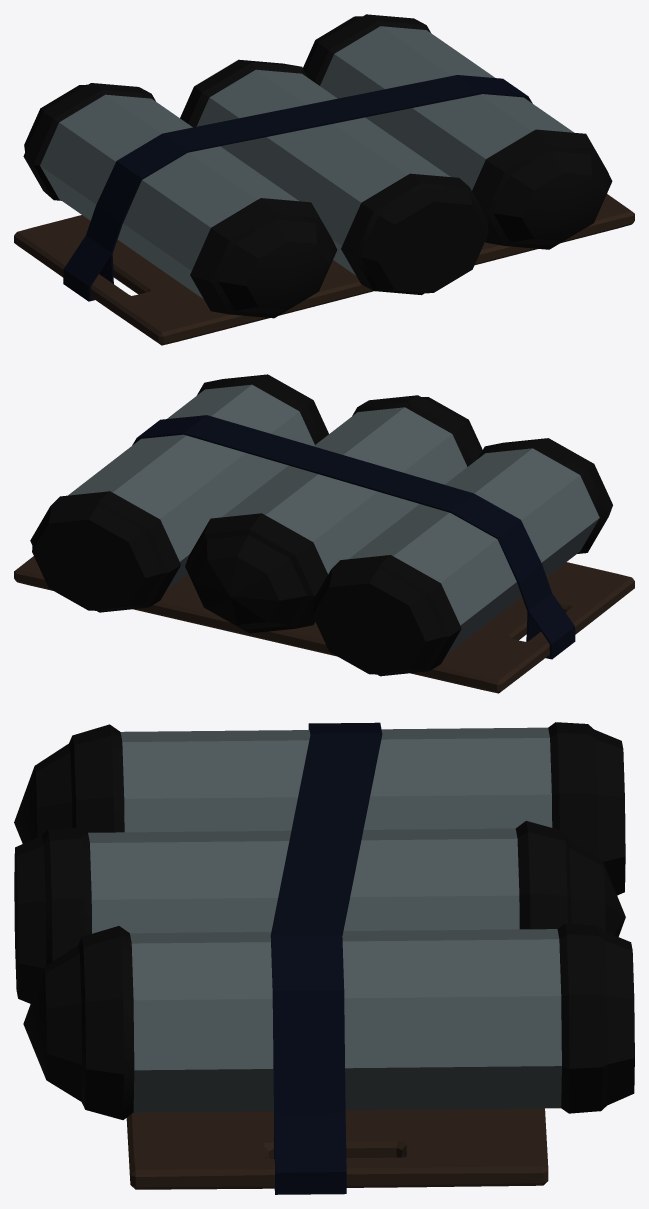
File: AirTanks.dae
3 renders of one model, top to bottom at view 1: azimuth 30°, elevation 25°; view 2: azimuth 150°, elevation 25°; view 3: azimuth 270°, elevation 25°, orthographic. The views are drawn at different scales.
Parts seen in each view (by area): view 1: polySurface18, polySurface18_ncl1_1, polySurface18_ncl1_2, pCube20, polySurface17_ncl1_1, pCube17, polySurface19, polySurface19_ncl1_2, polySurface17, polySurface17_ncl1_2, polySurface19_ncl1_1; view 2: polySurface18, polySurface18_ncl1_2, polySurface18_ncl1_1, pCube20, pCube17, polySurface17, polySurface17_ncl1_2, polySurface19_ncl1_1, polySurface19, polySurface17_ncl1_1, polySurface19_ncl1_2; view 3: polySurface18_ncl1_2, polySurface18_ncl1_1, polySurface18, pCube20, pCube17, polySurface19_ncl1_2, polySurface17_ncl1_2, polySurface17_ncl1_1, polySurface17, polySurface19, polySurface19_ncl1_1.
Boxes of the visible parts, box(x1,y1,x2,y2) form: polySurface18: box(40, 94, 298, 299); polySurface18_ncl1_1: box(196, 69, 450, 275); polySurface18_ncl1_2: box(320, 26, 573, 190); pCube20: box(63, 75, 532, 301); polySurface17_ncl1_1: box(341, 173, 489, 295); pCube17: box(14, 194, 634, 345); polySurface19: box(190, 198, 337, 318); polySurface19_ncl1_2: box(472, 129, 612, 249); polySurface17: box(23, 83, 155, 200); polySurface17_ncl1_2: box(303, 14, 430, 85); polySurface19_ncl1_1: box(180, 59, 308, 127); polySurface18: box(348, 448, 599, 653); polySurface18_ncl1_2: box(68, 384, 314, 590); polySurface18_ncl1_1: box(222, 407, 467, 574); pCube20: box(132, 415, 575, 659); pCube17: box(14, 556, 634, 693); polySurface17: box(311, 555, 461, 676); polySurface17_ncl1_2: box(30, 491, 180, 612); polySurface19_ncl1_1: box(185, 513, 327, 633); polySurface19: box(477, 438, 612, 553); polySurface17_ncl1_1: box(352, 395, 482, 466); polySurface19_ncl1_2: box(197, 374, 328, 444); polySurface18_ncl1_2: box(130, 929, 561, 1112); polySurface18_ncl1_1: box(88, 828, 519, 933); polySurface18: box(120, 727, 552, 832); pCube20: box(270, 722, 382, 1194); pCube17: box(126, 1108, 548, 1189); polySurface19_ncl1_2: box(23, 926, 134, 1119); polySurface17_ncl1_2: box(557, 923, 634, 1113); polySurface17_ncl1_1: box(14, 827, 91, 1003); polySurface17: box(548, 722, 625, 895); polySurface19: box(14, 724, 124, 843); polySurface19_ncl1_1: box(515, 821, 625, 936).
Bounding box in the file's own units: 1.82 × 0.4498 × 1.36.
